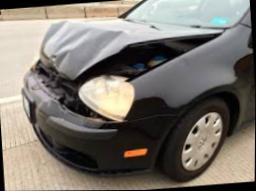Bonnet: (39, 14, 226, 79)
Bumper: (25, 70, 102, 128)
Light: (76, 73, 136, 122)
